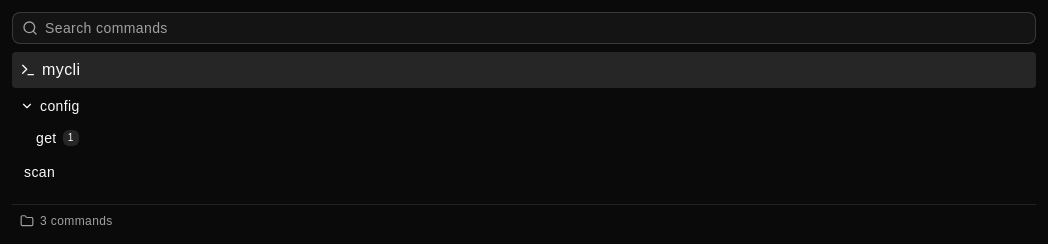
Test: CommandTree › collapses and expands a branch when its own row is clicked
Check: the text "get" is shown, box [36,128,57,148]
Click the button "config": {"x": 60, "y": 106} [12,90,1036,122]
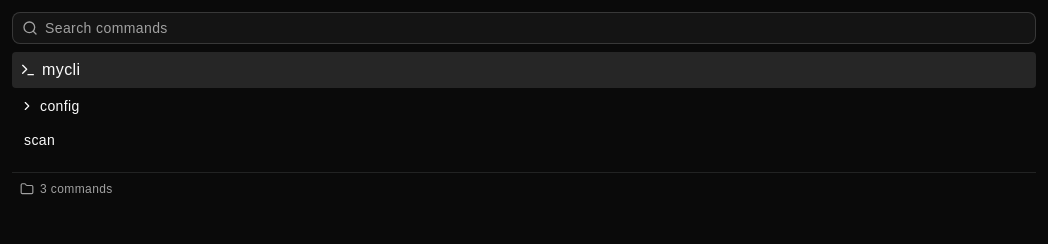
Check: the button "get" is gone
Click the button "config": {"x": 60, "y": 106} [12,90,1036,122]
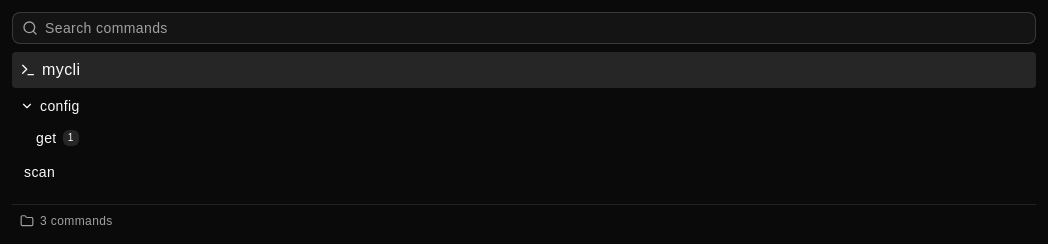
Check: the text "get" is shown, box [36,128,57,148]
